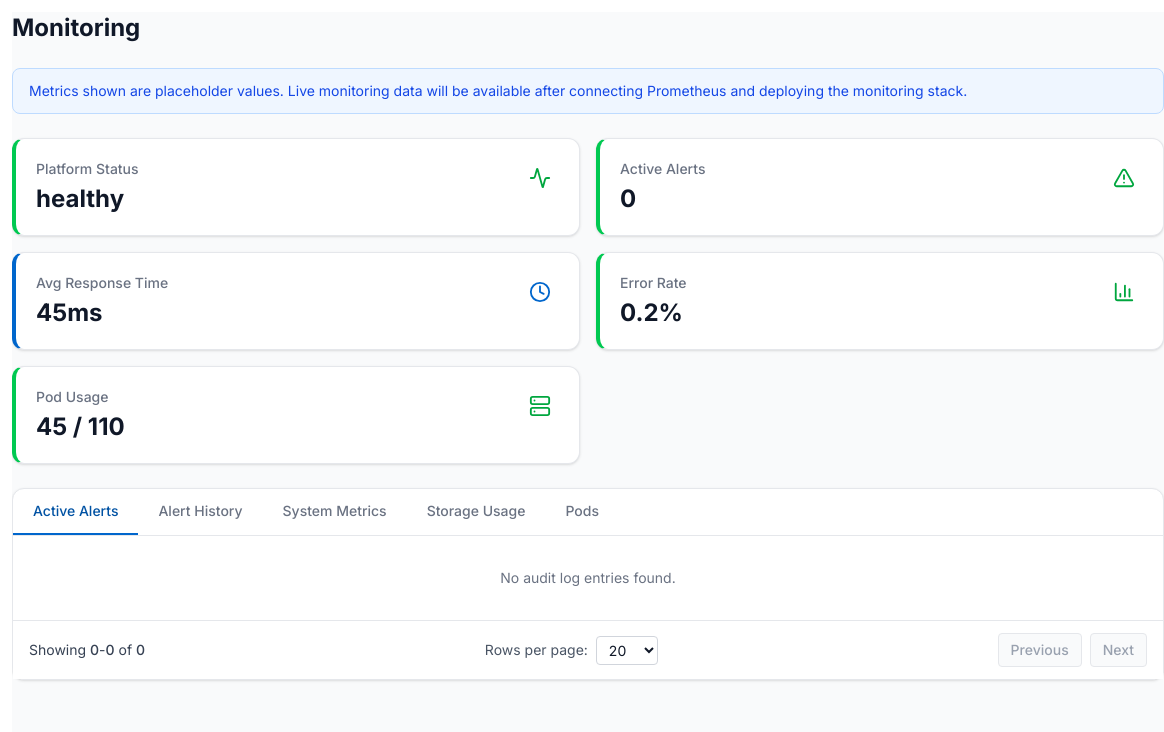
it: Monitoring Pods tab › searches pods by namespace
The width and height of the screenshot is (1164, 732).
Click the button with test id "tab-pods" at x=582, y=512, box left=545, top=489, right=619, bottom=535
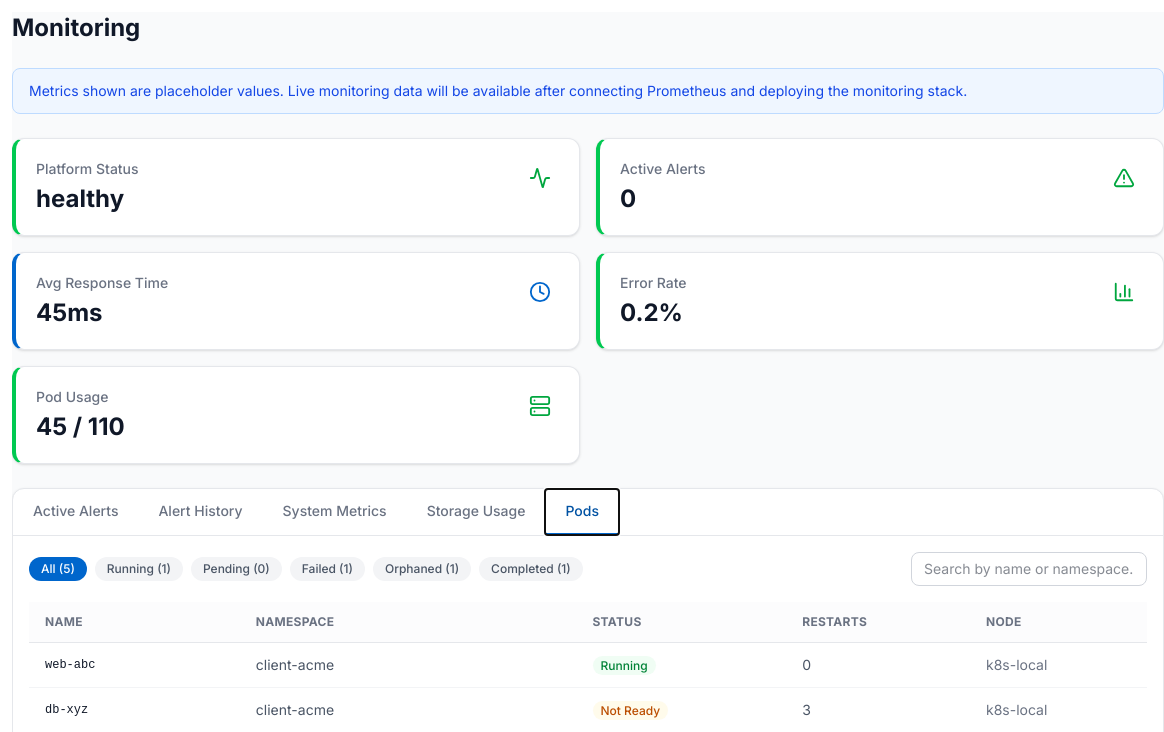
Type "smoke-test" into the field with test id "pod-search" at x=1029, y=569, box left=911, top=552, right=1147, bottom=586
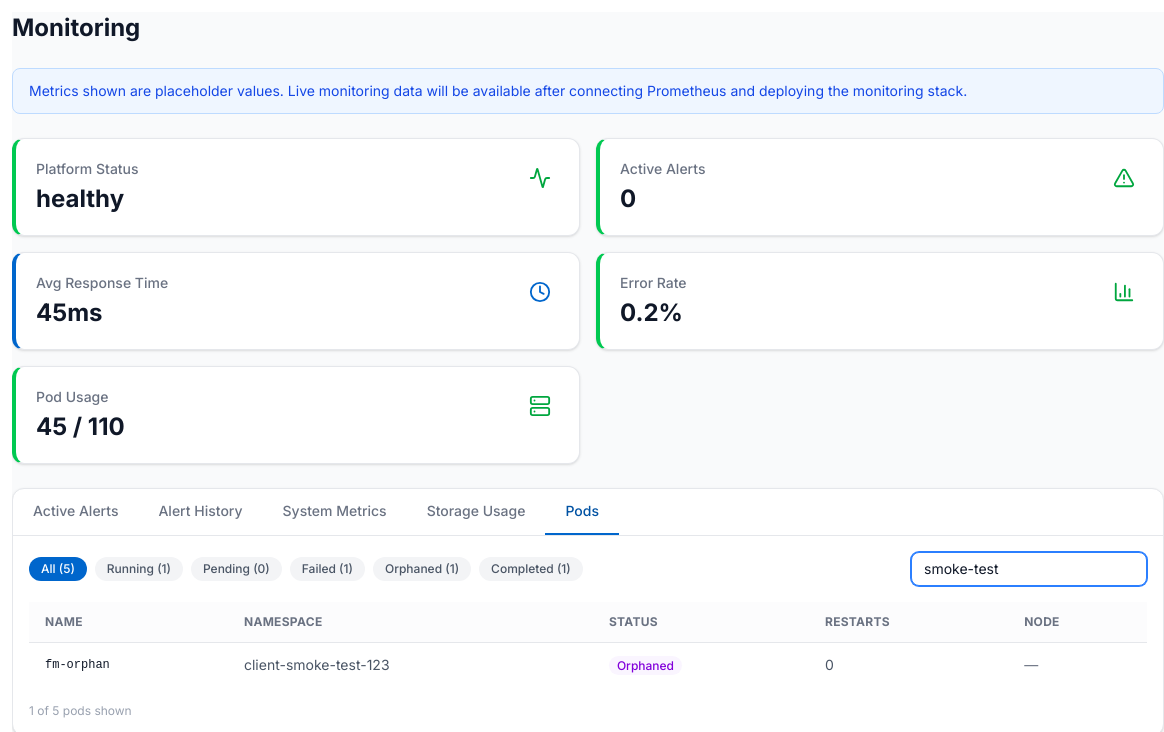
Expected: the text "fm-orphan" is shown, left=29, top=642, right=228, bottom=687
Expected: the text "web-abc" is gone
